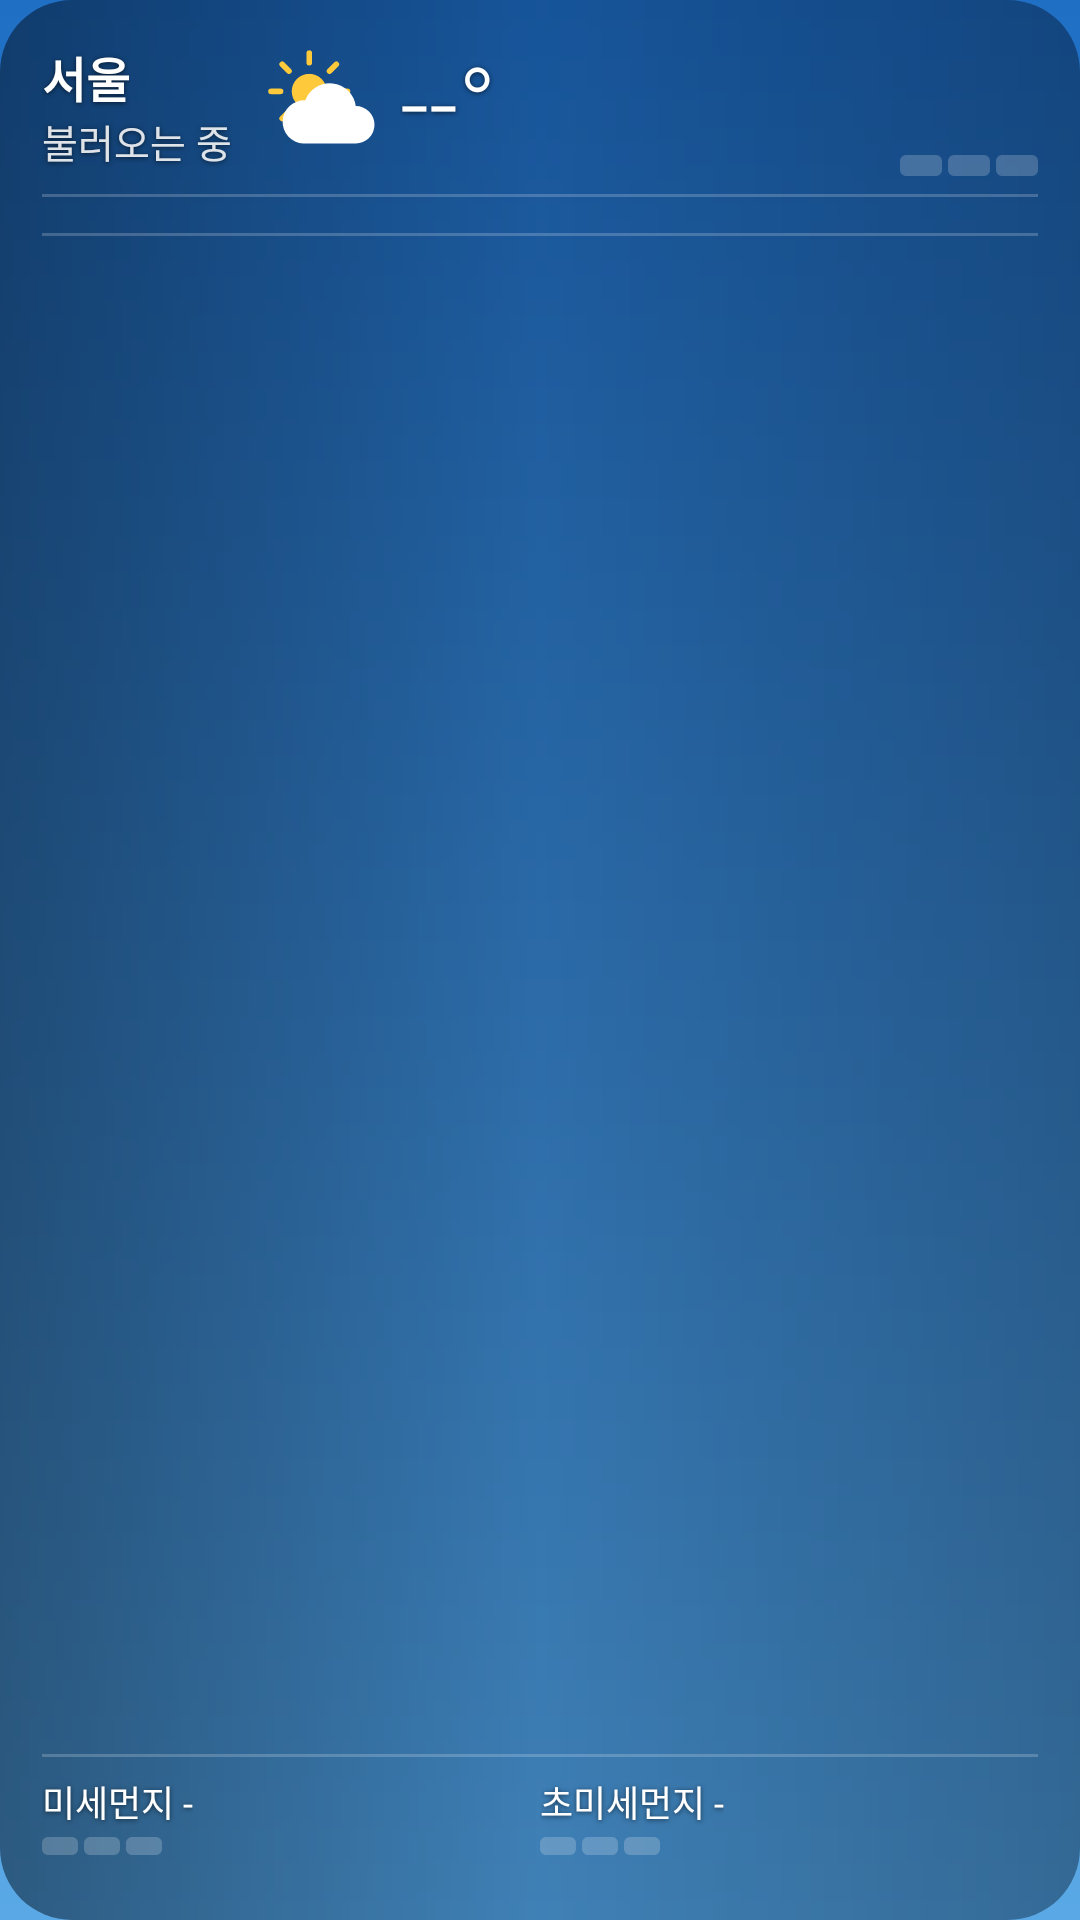

Icons on this 1080 x 1920 Android screen, each with its box as (x1, y1, x2, y2):
partly day: (268, 50, 375, 144)
